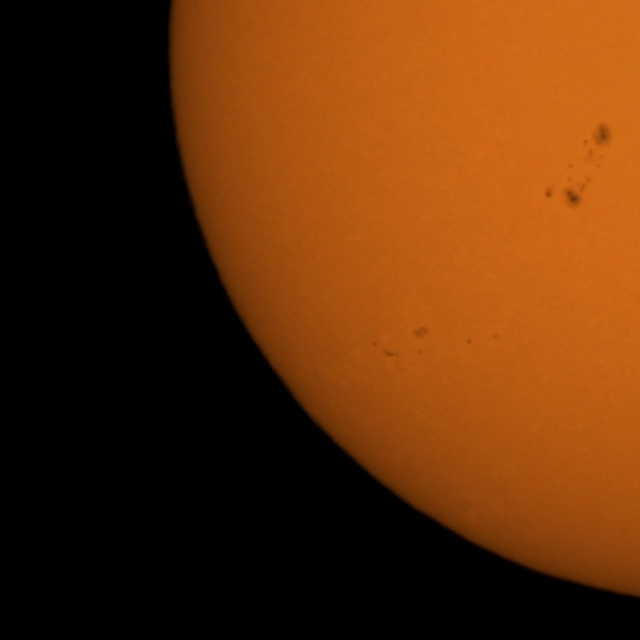sunspot: (554, 166, 595, 208), (581, 121, 612, 164), (412, 324, 430, 344), (544, 186, 554, 200), (490, 332, 500, 340), (466, 338, 473, 346)
